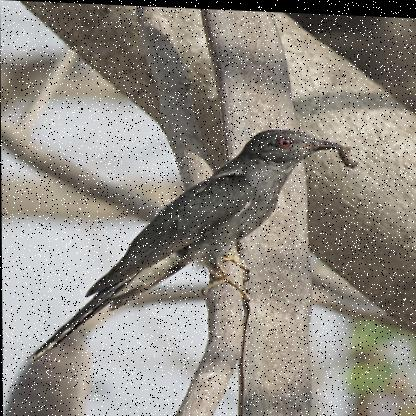Burung: (24, 118, 359, 374)
